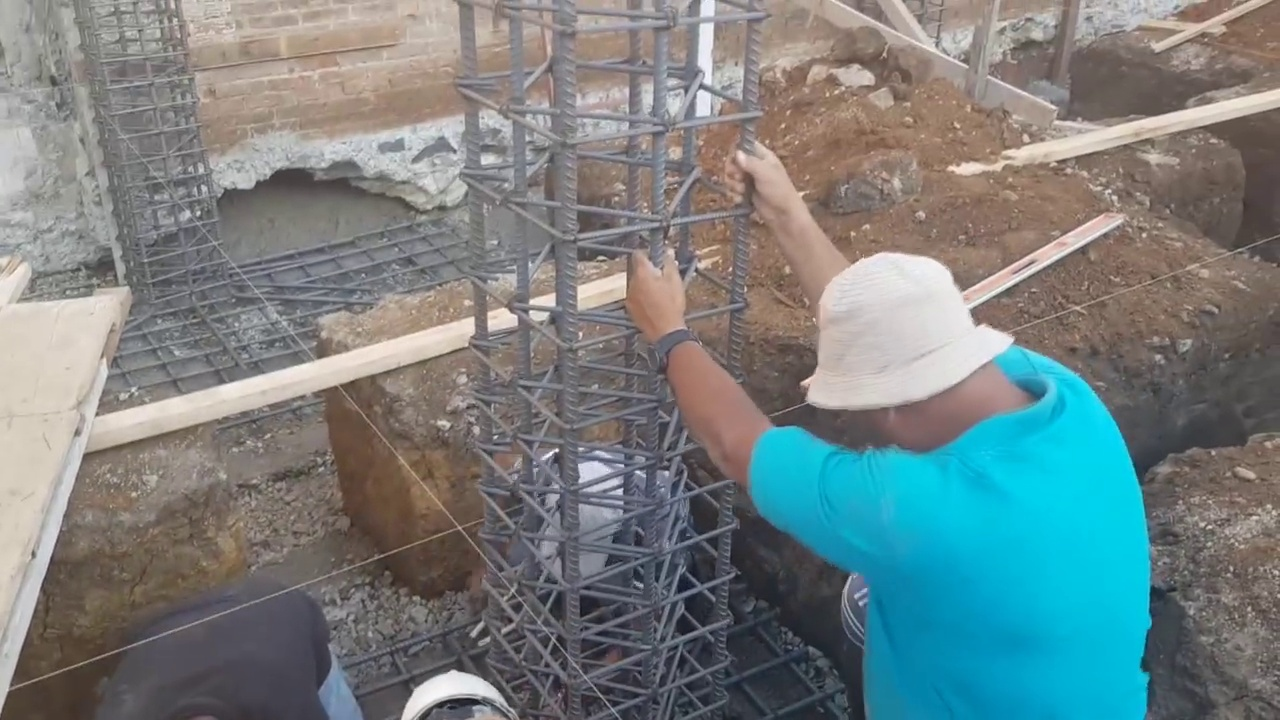helmet: (398, 683, 515, 720)
helmet-off: (822, 264, 1047, 448), (541, 459, 628, 586)
person: (636, 134, 1183, 720), (84, 566, 373, 714), (487, 418, 676, 634)
